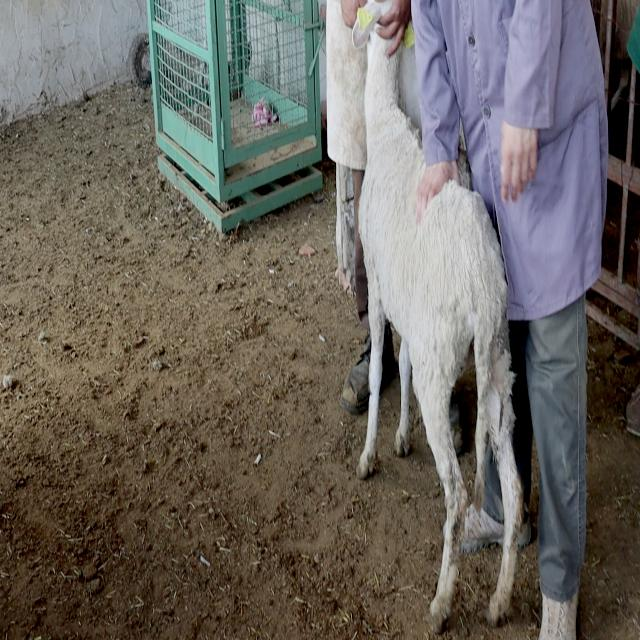Score_1: (351, 0, 521, 631)
